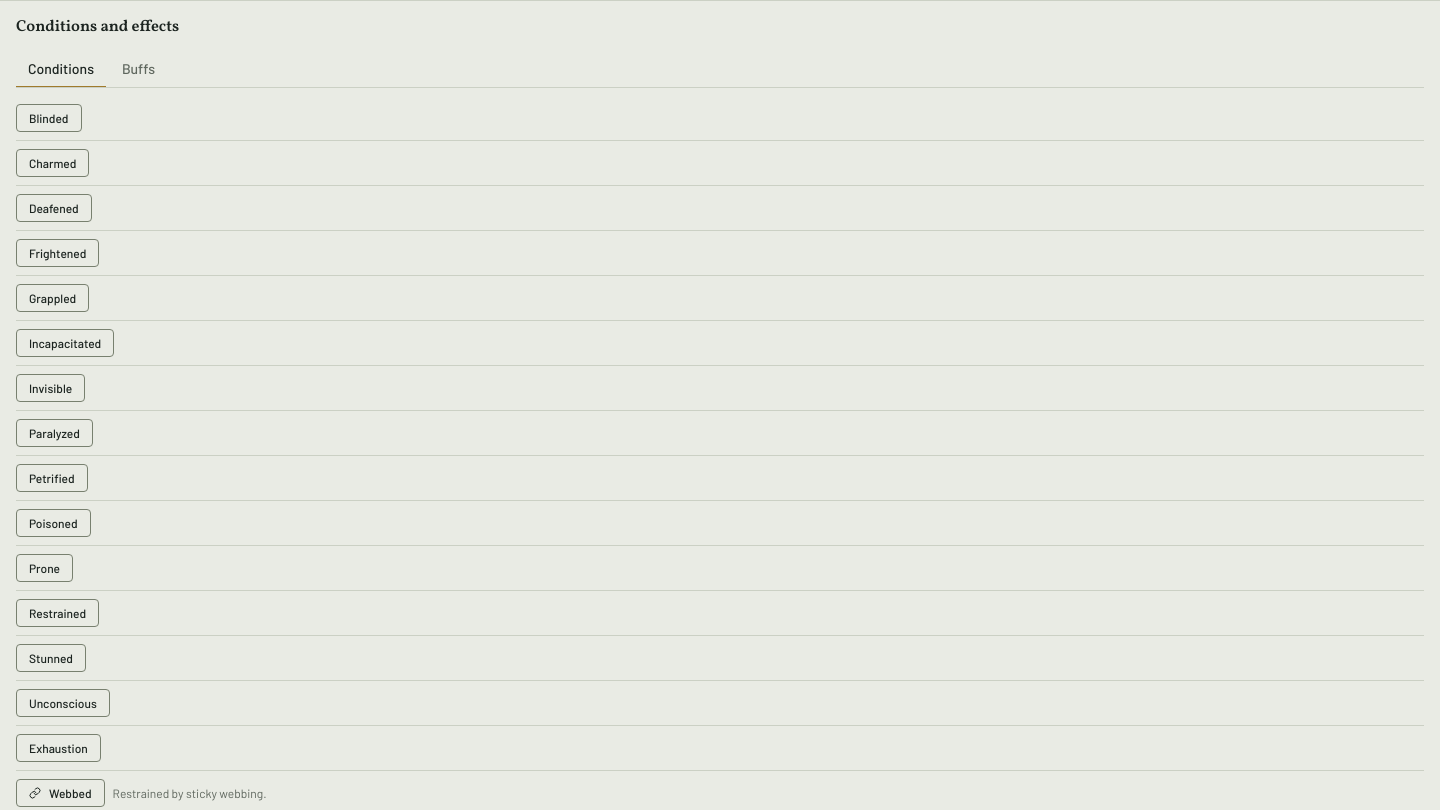
DetailEffects — combatConfig.customConditions selector › shows library icons, and files buff-kind entries under the Buffs tab
The width and height of the screenshot is (1440, 810).
Expected: the icon with class "lucide-link" is shown, [29,787,41,799]
Expected: the text "Restrained by sticky webbing." is shown, [113,786,267,800]
Step 1. Click the tab "Buffs" → x=138, y=69, box [110,51,167,88]
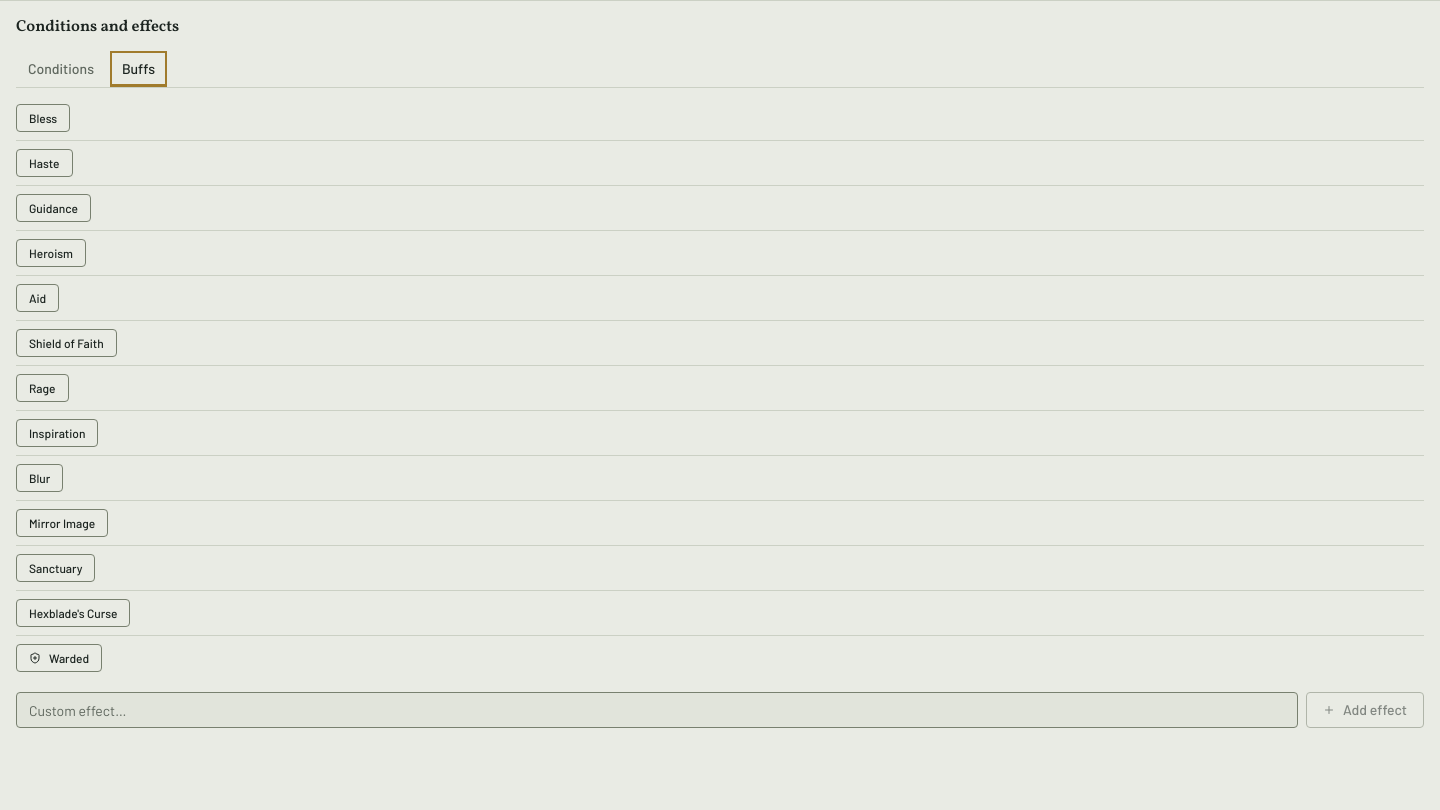
Expected: the icon with class "lucide-shield-plus" is shown, [29,652,41,664]
